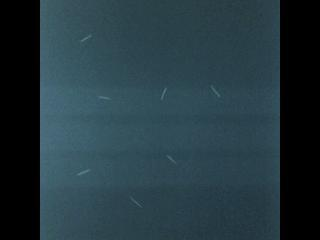scratch: (127, 191, 145, 209), (163, 152, 179, 167), (208, 83, 222, 100), (73, 167, 92, 178), (78, 32, 93, 44), (159, 86, 169, 101), (96, 94, 113, 102)
